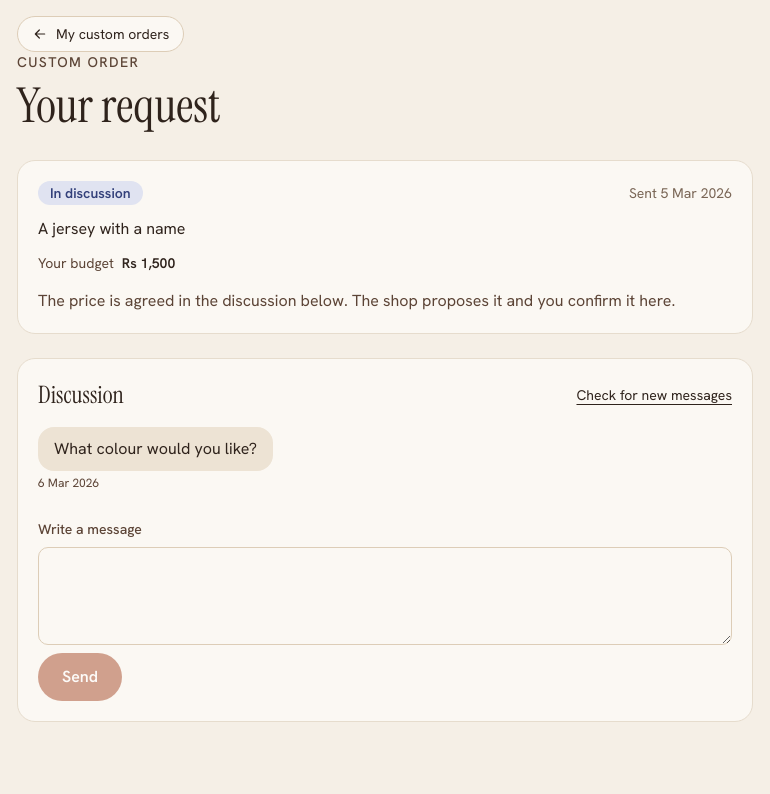
it: shows the request and the conversation, and sends a reply
Check: the text "A jersey with a name" is shown, box left=38, top=218, right=186, bottom=239
Check: the text "What colour would you like?" is shown, box left=38, top=427, right=273, bottom=471
In the text box labelled "Write a message": (385, 596) left=38, top=547, right=732, bottom=645, type "Blush pink please"
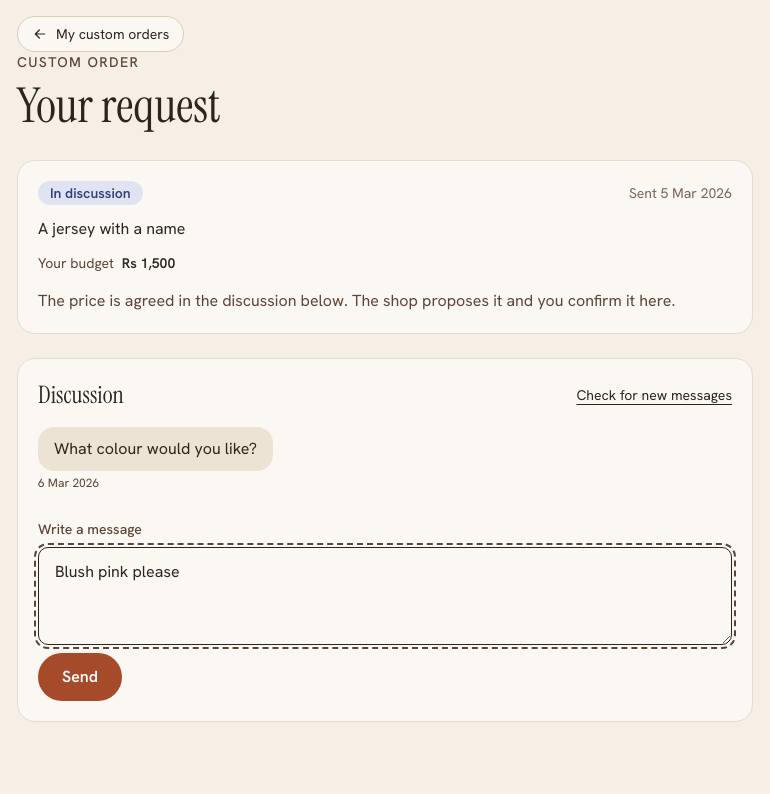
Click the button "Send": (80, 677) left=38, top=653, right=122, bottom=701
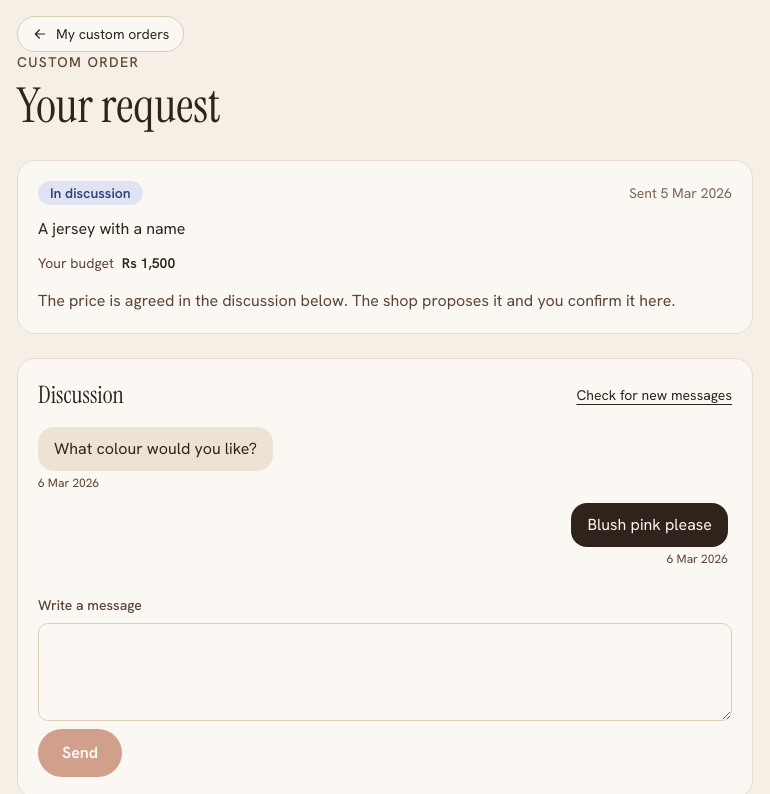
Check: the text "Blush pink please" is shown, box left=572, top=503, right=728, bottom=547
Check: the text box labelled "Write a message" is empty, box left=38, top=623, right=732, bottom=721
